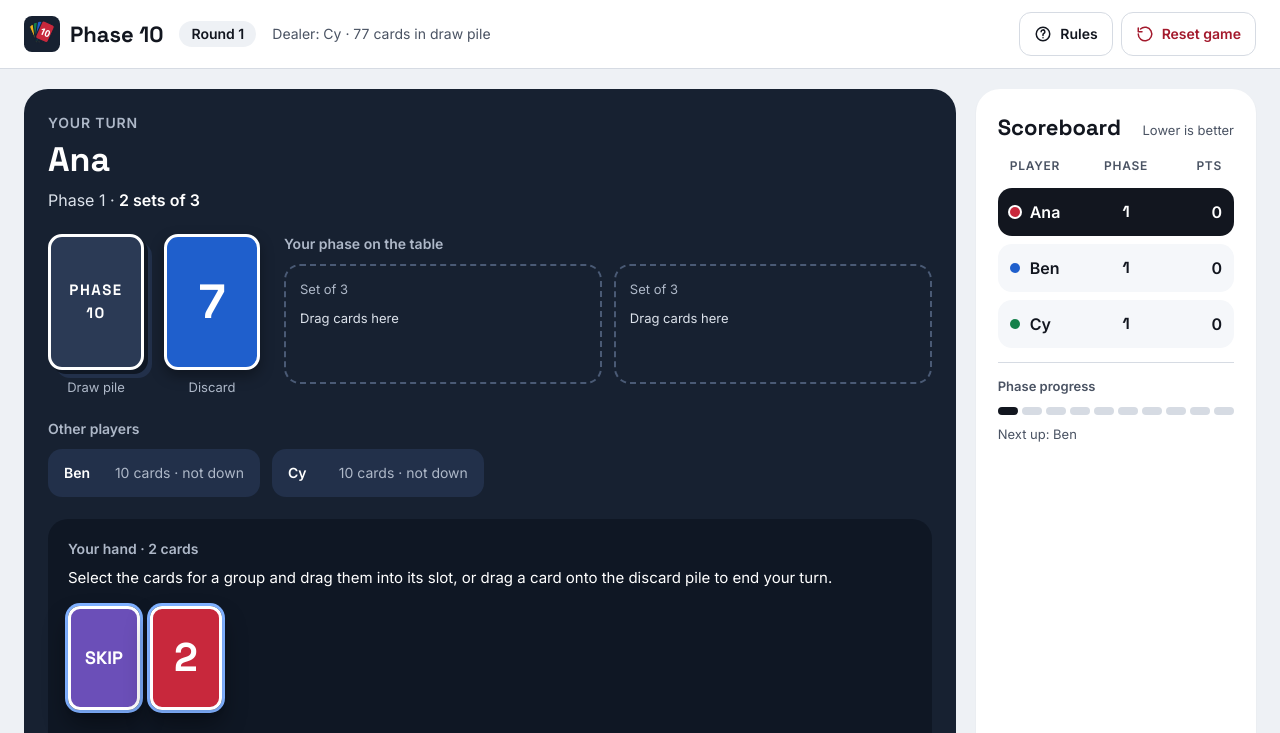
Test: TurnPage rules › plays a Skip with no effect once everyone has been skipped
Click the button "SKIP" at (104, 658), box [68,606,140,710]
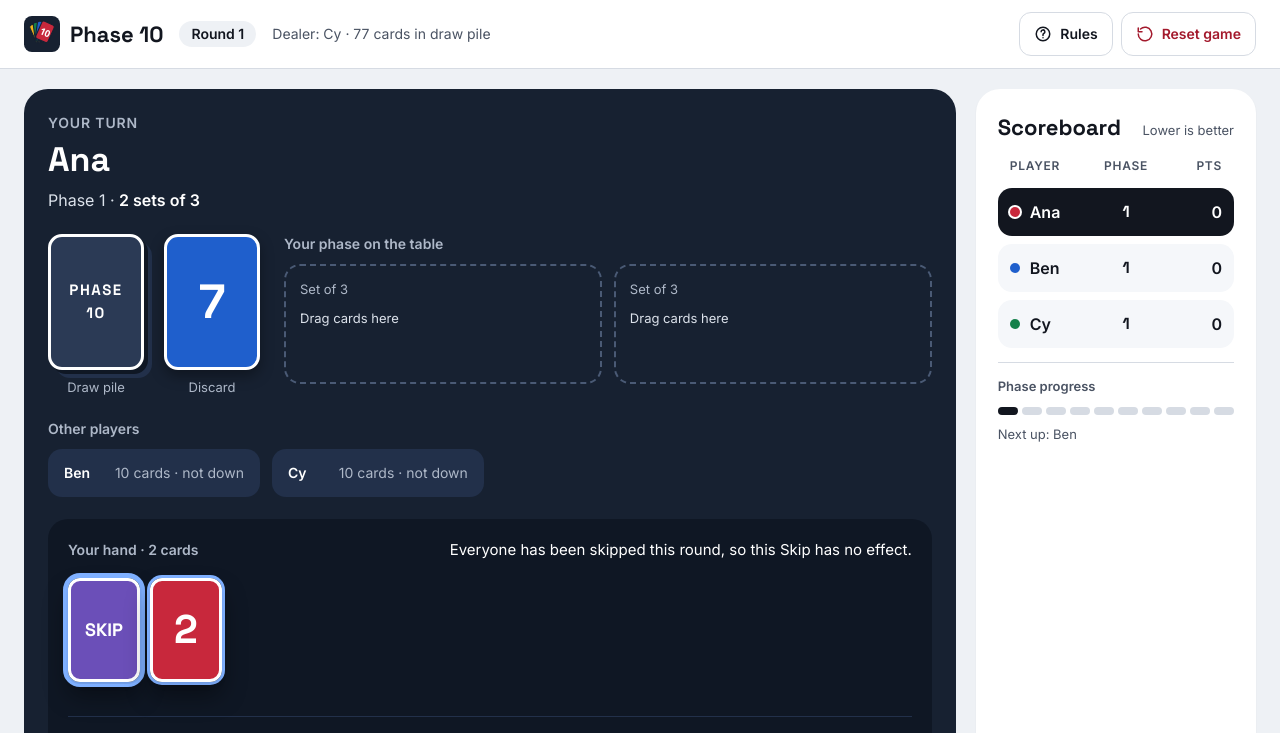
Expected: the message reads "Everyone has been skipped this round, so this Skip has no effect.", [450,540,912,559]
Click the button "7" at (212, 302), box [164,234,260,370]
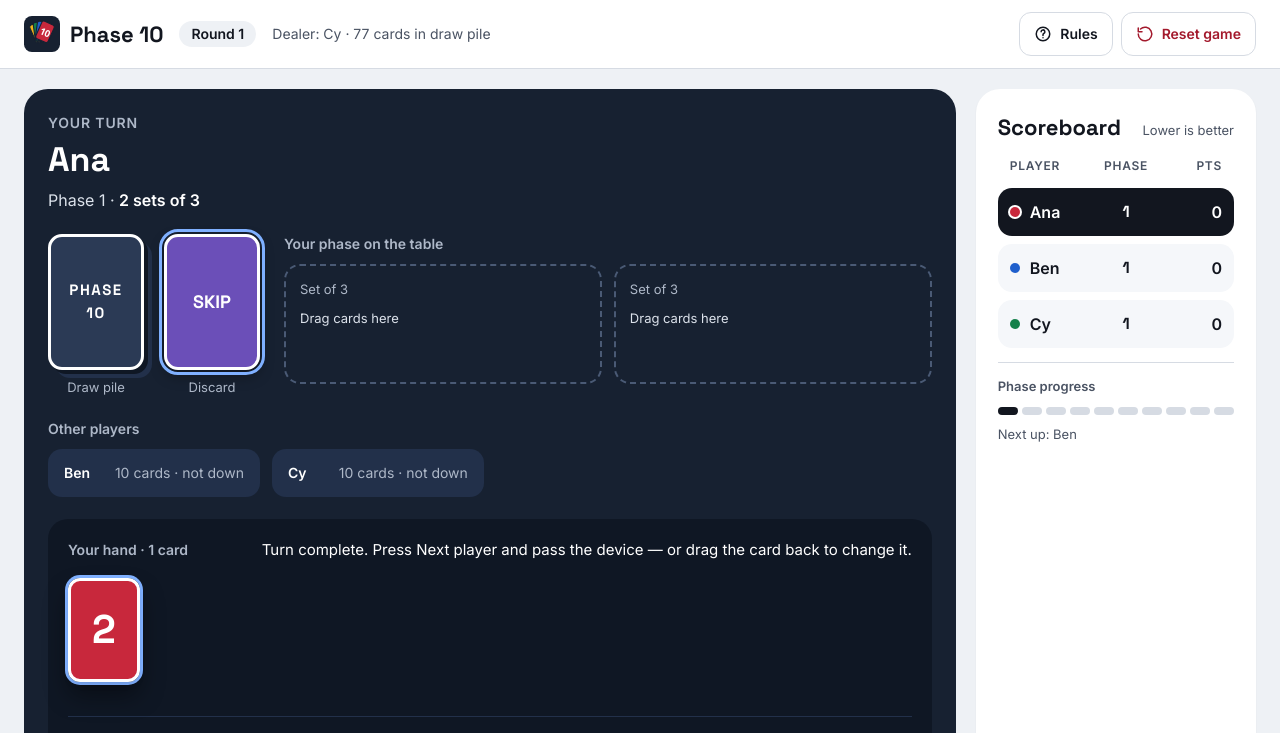
Expected: the message shows "Turn complete. Press Next player and pass the device — or drag the card back to change it.", [262,540,912,559]
